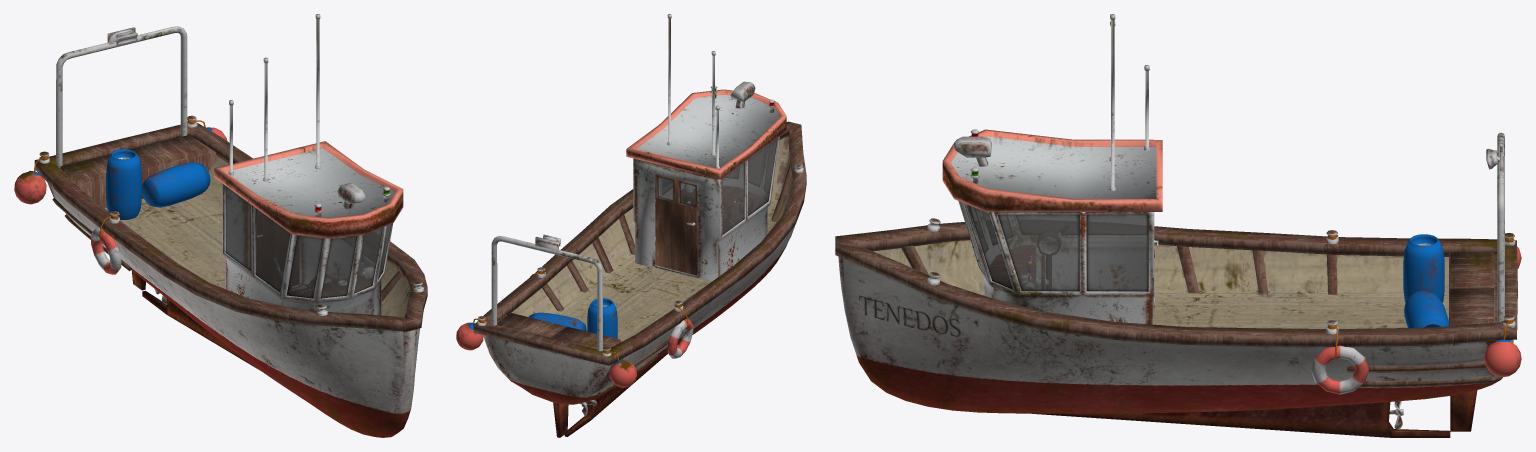
Rendered from skiff.glb.
The picture shows the model from 3 angles, left to right: view 1: azimuth 30°, elevation 25°; view 2: azimuth 150°, elevation 25°; view 3: azimuth 270°, elevation 25°; orthographic projection. The views are drawn at different scales.
Parts seen in each view (by area): view 1: dock; view 2: dock; view 3: dock.
Boxes of the visible parts, bbox=[...] form: dock: bbox=[14, 14, 427, 437]; dock: bbox=[456, 14, 806, 437]; dock: bbox=[835, 14, 1521, 437].
Size of the model in its own units: 1.85 by 3.23 by 4.6.
7 materials, 7 textured.
